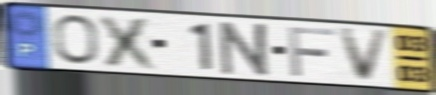1: (187, 22, 215, 72)
F: (285, 25, 338, 79)
N: (218, 20, 274, 79)
O: (50, 13, 102, 67)
V: (336, 27, 393, 84)
X: (95, 13, 163, 72)
